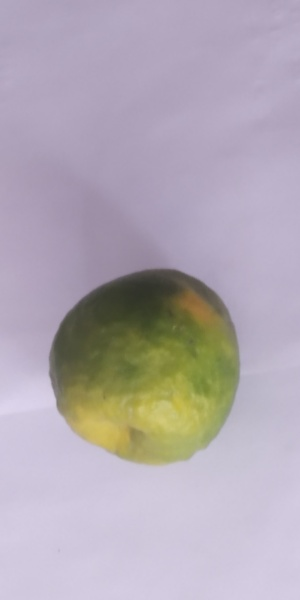BAD: (45, 264, 241, 475)
